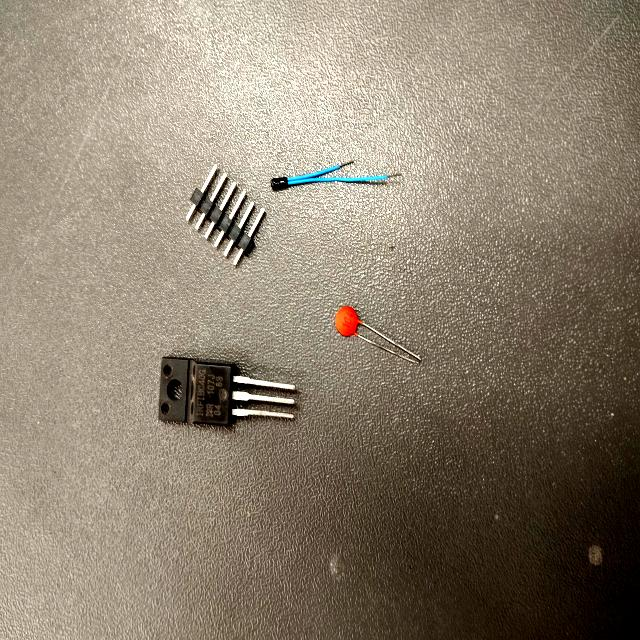capacitor: (331, 302, 370, 341)
